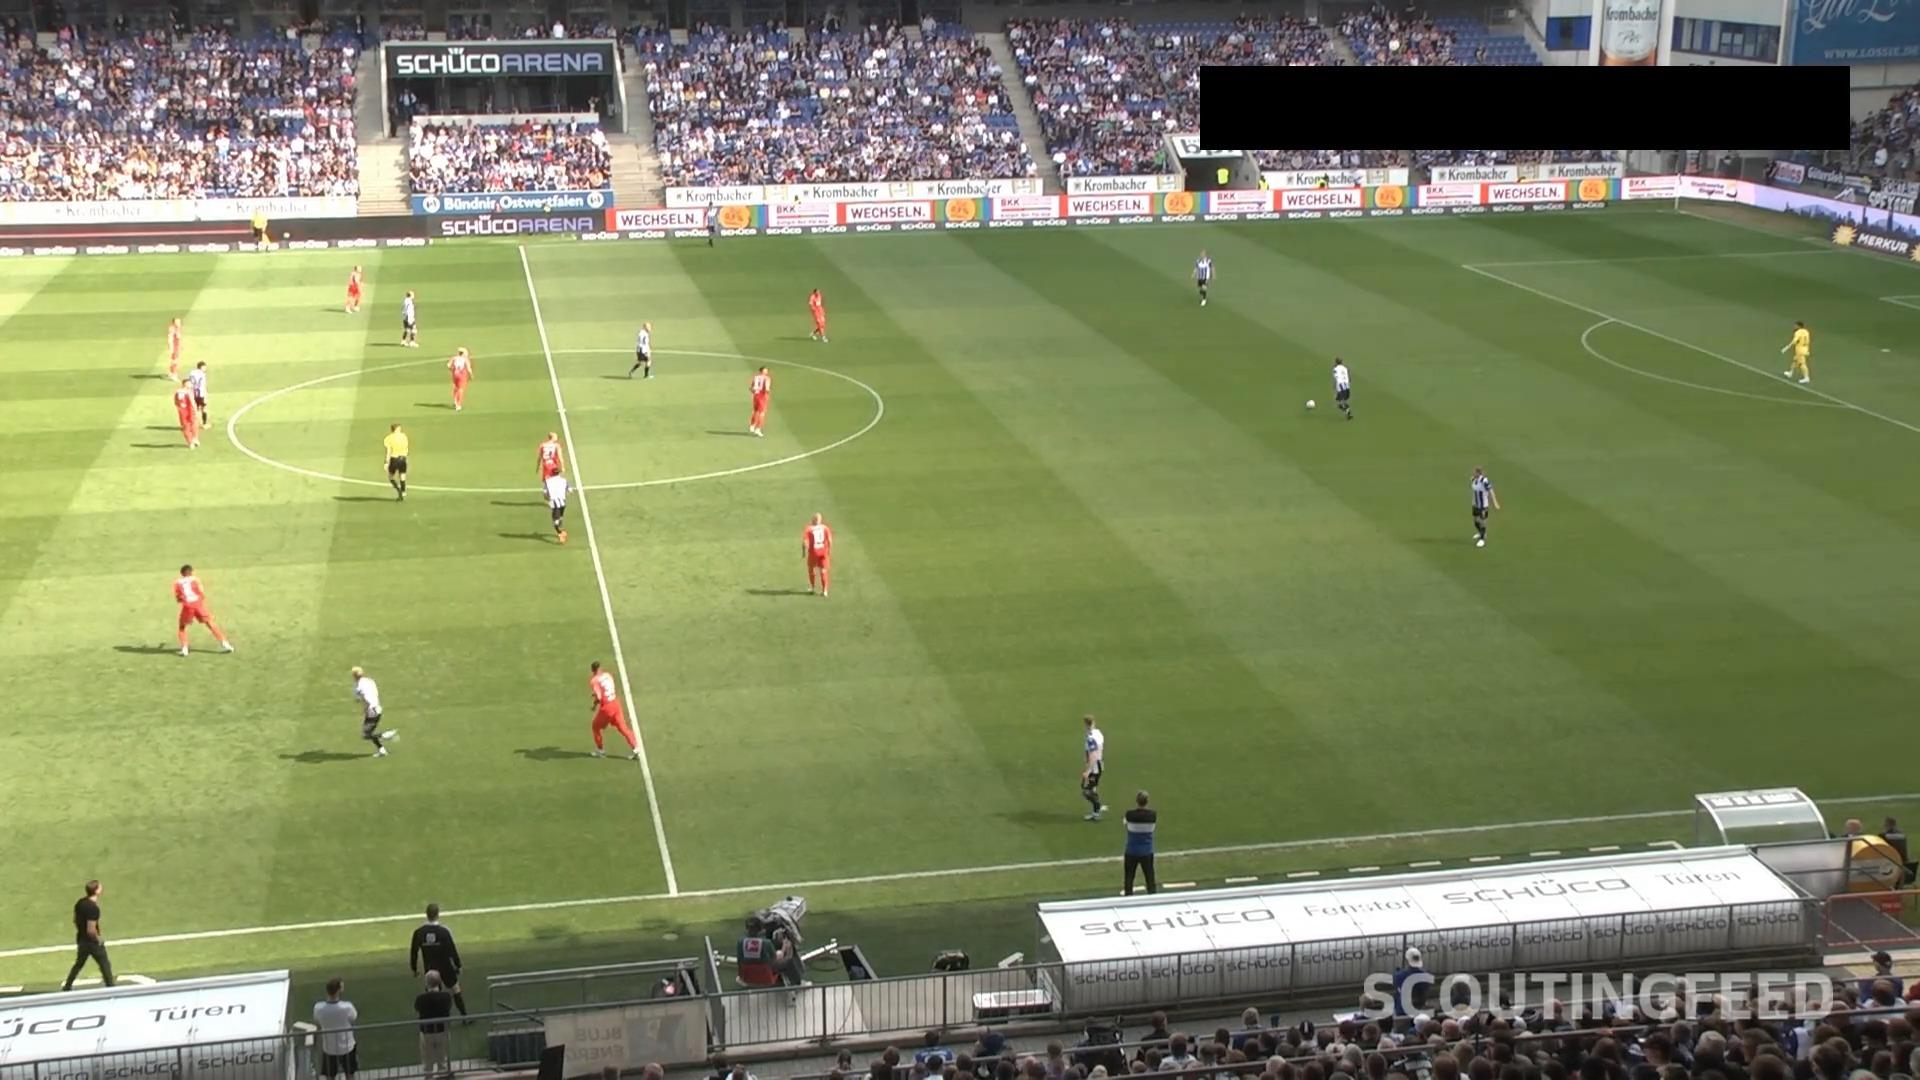ball: (1305, 400, 1316, 410)
